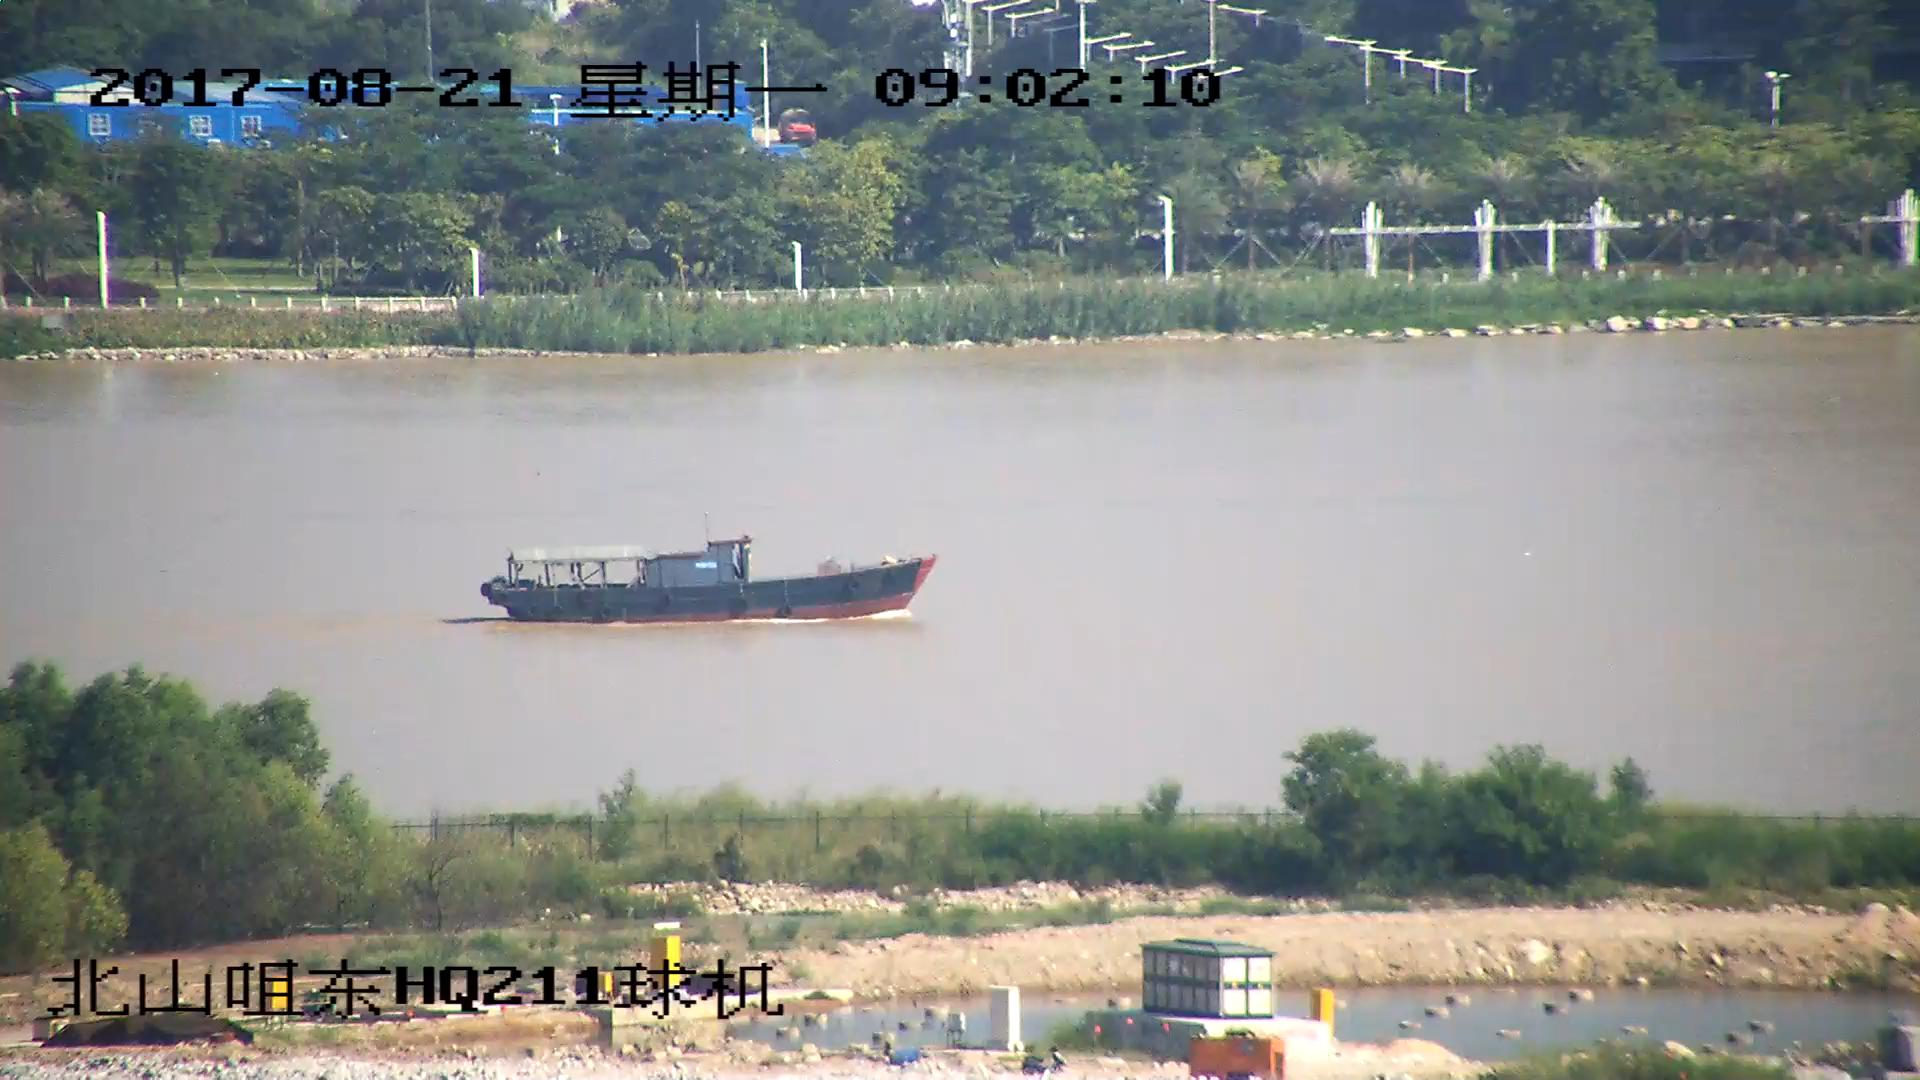fishing boat: (475, 538, 935, 622)
